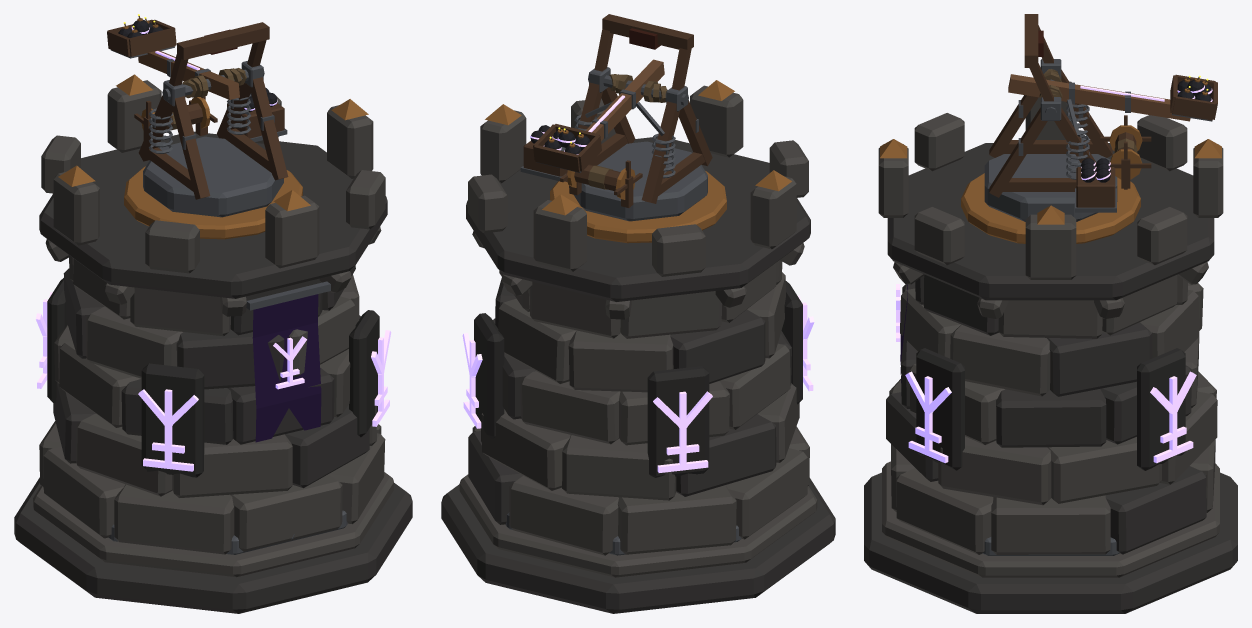
The model's file is bomb_tower_cluster.glb.
3 renders of one model, left to right at view 1: azimuth 30°, elevation 25°; view 2: azimuth 150°, elevation 25°; view 3: azimuth 270°, elevation 25°, orthographic.
Visible parts, largest first — view 1: Platform, Plinth, Plinth_Step, Banner, Turret_Base, Block_0_5, Block_0_6, Block_1_5, RuneStone_3, Block_3_4, Block_1_4, Block_3_5 (+36 smaller); view 2: Platform, Plinth, Plinth_Step, Block_0_3, Block_0_2, Block_1_2, Block_3_2, RuneStone_2, Block_2_2, Turret_Base, Block_3_3, Block_1_3 (+32 smaller); view 3: Platform, Plinth, Plinth_Step, Block_0_0, Block_2_0, Block_1_7, Block_0_1, Block_3_0, Block_0_7, Block_3_7, Block_1_0, RuneStone_1 (+36 smaller).
Part boxes in pixels (bbox=[...]): Platform: bbox=[39, 131, 387, 298]; Plinth: bbox=[14, 477, 412, 613]; Plinth_Step: bbox=[33, 472, 393, 577]; Banner: bbox=[252, 294, 321, 442]; Turret_Base: bbox=[143, 136, 283, 217]; Block_0_5: bbox=[114, 484, 234, 554]; Block_0_6: bbox=[230, 474, 342, 551]; Block_1_5: bbox=[172, 434, 292, 497]; RuneStone_3: bbox=[141, 363, 204, 477]; Block_3_4: bbox=[86, 306, 182, 378]; Block_1_4: bbox=[76, 414, 172, 496]; Block_3_5: bbox=[176, 329, 284, 389]; Platform: bbox=[466, 137, 810, 301]; Plinth: bbox=[441, 478, 835, 613]; Plinth_Step: bbox=[459, 474, 817, 577]; Block_0_3: bbox=[617, 485, 736, 554]; Block_0_2: bbox=[509, 475, 618, 555]; Block_1_2: bbox=[562, 435, 676, 500]; Block_3_2: bbox=[568, 330, 673, 392]; RuneStone_2: bbox=[647, 366, 709, 477]; Block_2_2: bbox=[520, 371, 620, 444]; Turret_Base: bbox=[569, 141, 707, 221]; Block_3_3: bbox=[670, 309, 765, 383]; Block_1_3: bbox=[676, 414, 776, 496]; Platform: bbox=[887, 143, 1214, 300]; Plinth: bbox=[864, 472, 1237, 613]; Plinth_Step: bbox=[882, 461, 1219, 577]; Block_0_0: bbox=[991, 495, 1110, 554]; Block_2_0: bbox=[996, 389, 1106, 447]; Block_1_7: bbox=[938, 436, 1051, 505]; Block_0_1: bbox=[1105, 466, 1206, 554]; Block_3_0: bbox=[1047, 322, 1152, 396]; Block_0_7: bbox=[896, 468, 993, 554]; Block_3_7: bbox=[950, 324, 1050, 396]; Block_1_0: bbox=[1047, 437, 1161, 503]; RuneStone_1: bbox=[1137, 348, 1185, 470].
Size of the model in its own units: 2.49 by 3.71 by 2.49.
